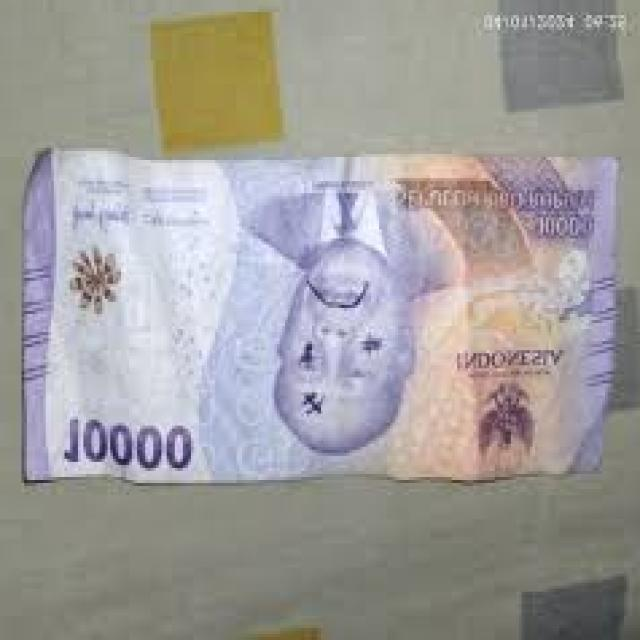sepuluh ribu rupiah: (18, 145, 623, 484)
